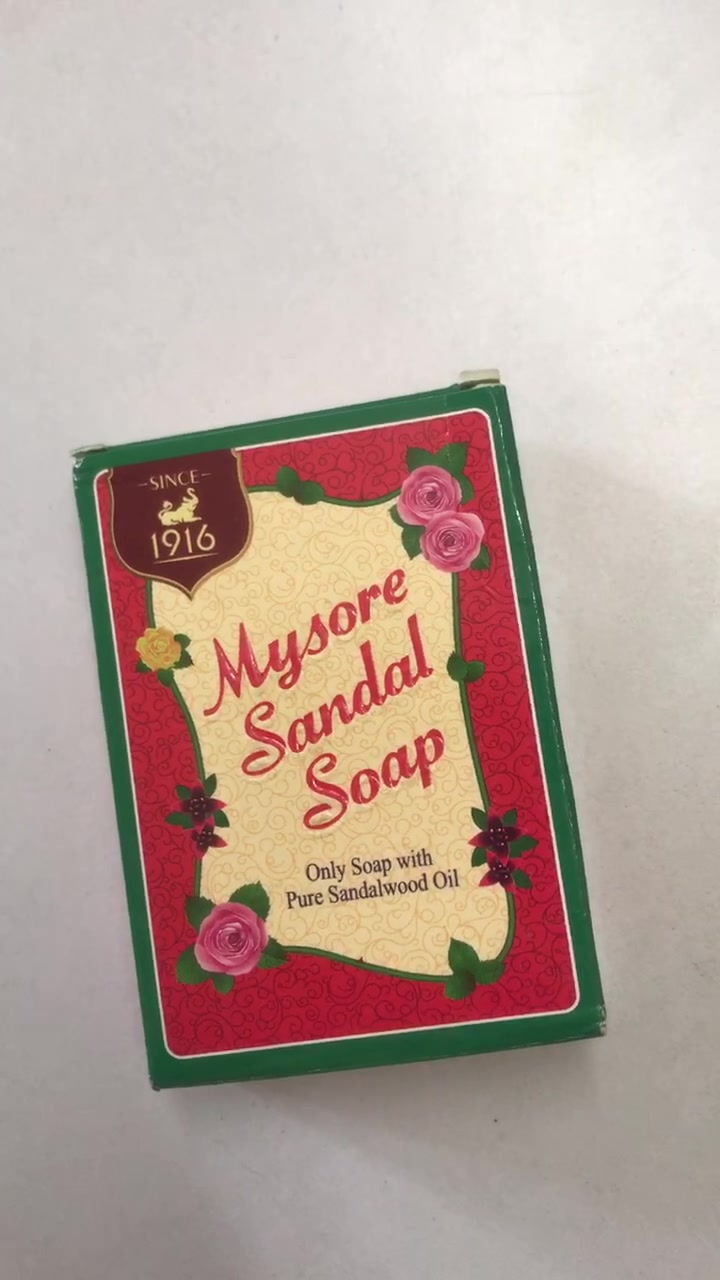mysore sandal soap: (76, 392, 601, 1089)
